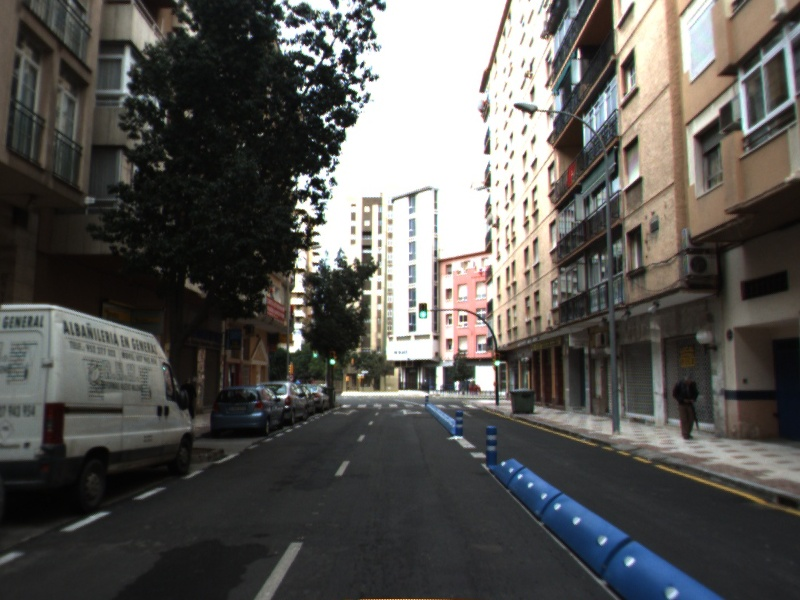STRAIGHT_LEFT: (331, 408, 361, 417)
STRAIGHT_RIGHT: (397, 407, 424, 416)
